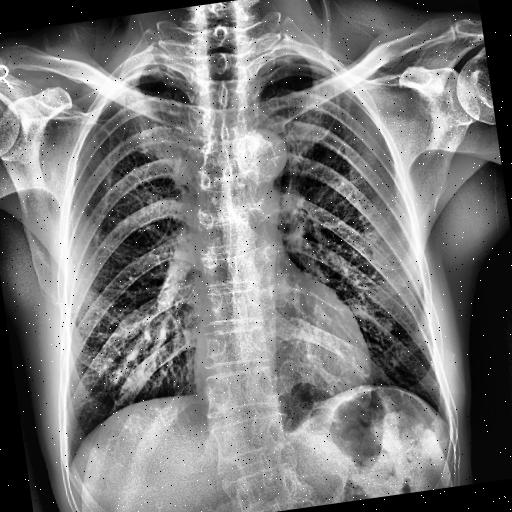0- Aortic enlargement: (232, 124, 292, 188), (238, 125, 290, 183)
11- Pleural thickening: (112, 66, 164, 92), (255, 52, 304, 74)
